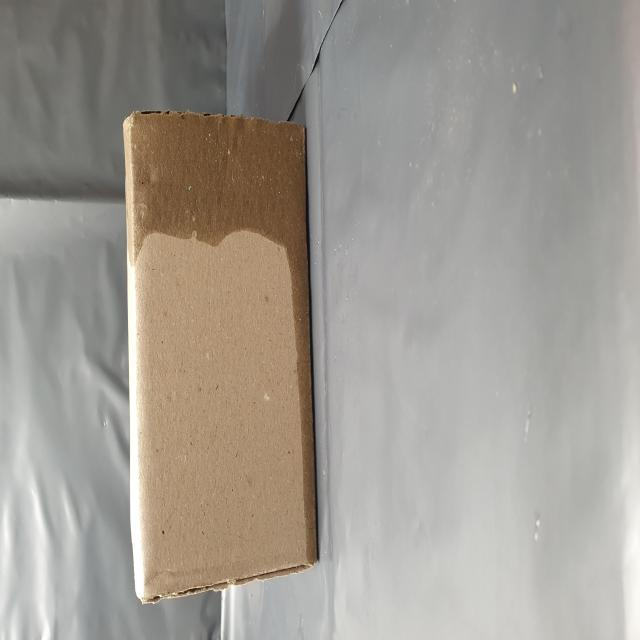wet: (212, 228, 318, 550)
